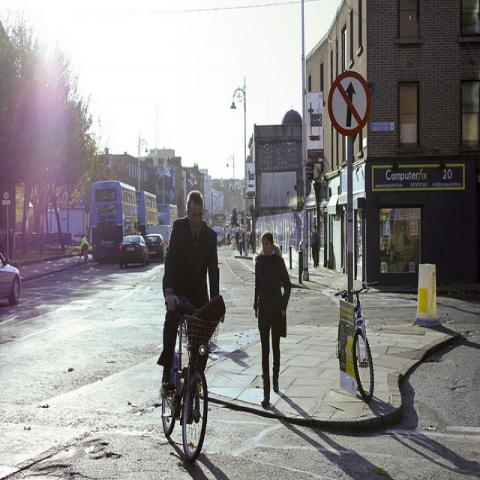bus: (93, 180, 142, 264), (136, 190, 159, 233), (157, 203, 178, 228)
car: (0, 255, 21, 306), (120, 233, 150, 268), (145, 234, 165, 263)
